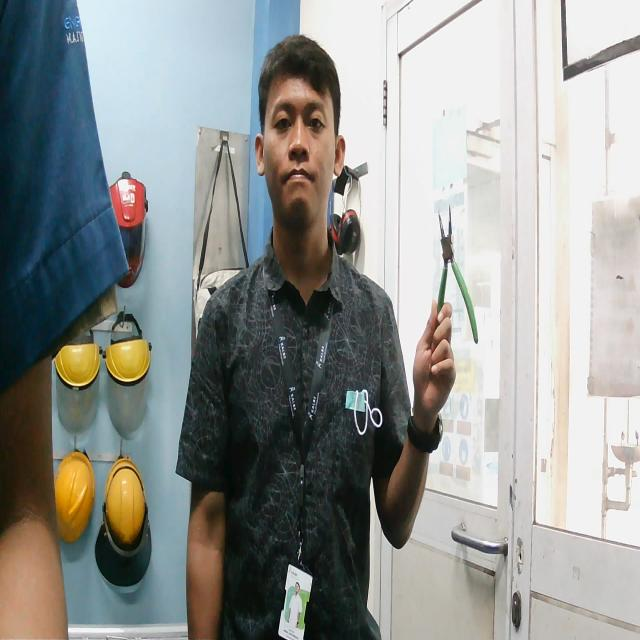tang_scun_hidrolik: (429, 206, 482, 359)
